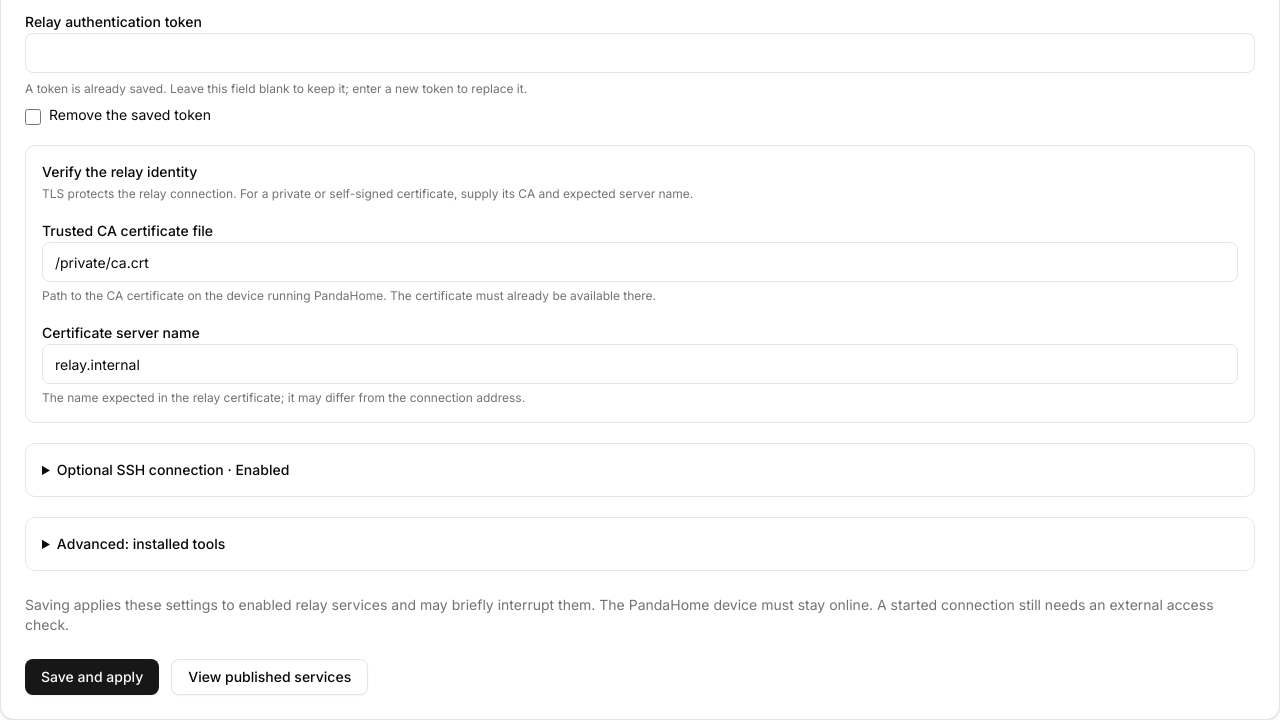
Test: managed relay settings (en) › saves a complete profile without replacing a token from an empty password field
This screenshot has width=1280, height=720.
(page scrolled)
expect the password field labelled "Relay authentication token" is empty: met, box [25, 33, 1255, 73]
expect the text "A token is already saved. Leave this field blank to keep it; enter a new token to replace it." is shown: met, box [25, 81, 527, 96]
What coordinates should you click on to do the following:
click the button "Save and apply"
I would click on:
 (92, 677)
Its box is [25, 659, 159, 695].
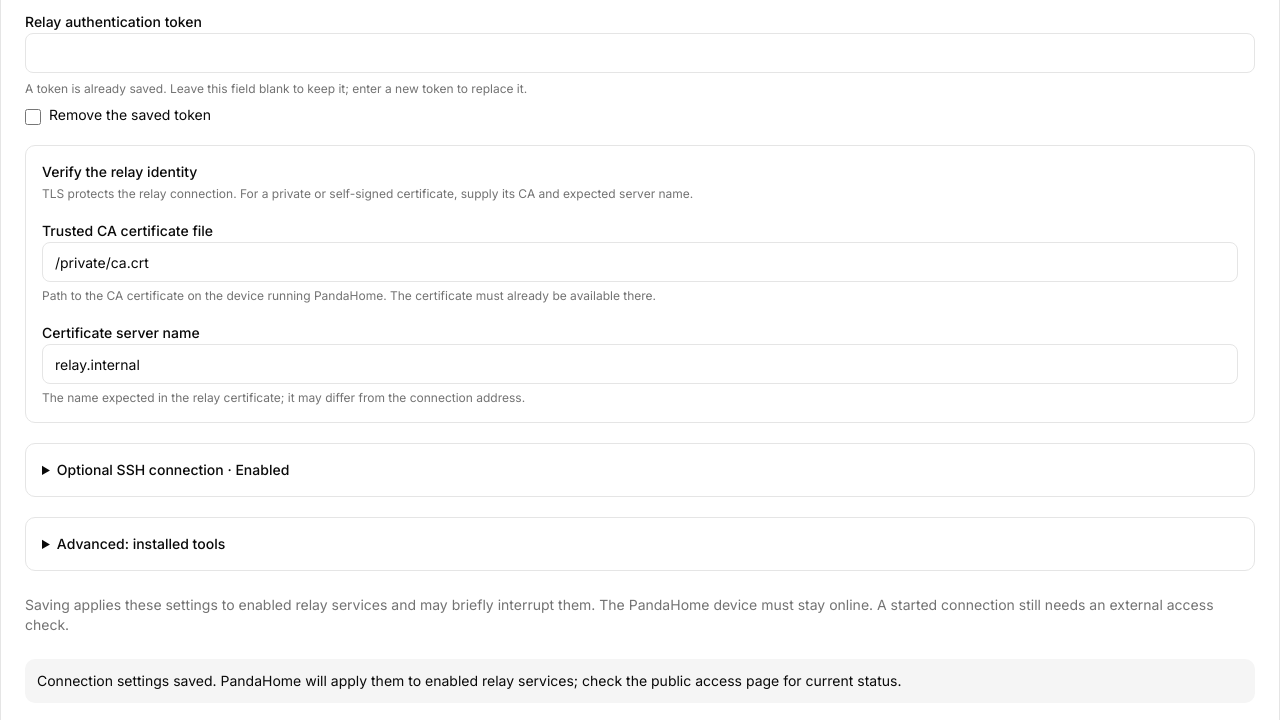
expect the message is shown: met, box [25, 659, 1255, 703]
